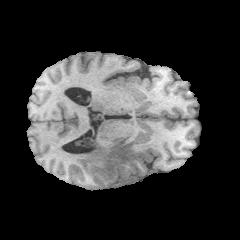glioma: (64, 139, 134, 181)
